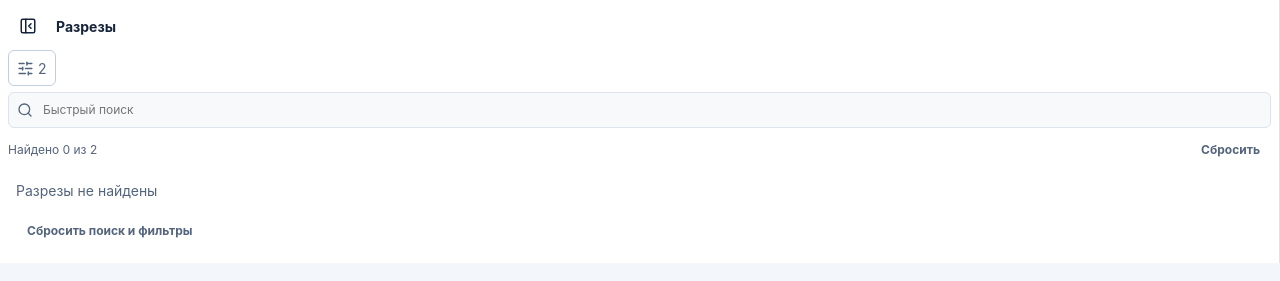
Test: compact section registry › resets block filters from an empty result
Expected: the text "Разрезы не найдены" is shown, 16,182 -> 157,199
Step 1. Click the button "Сбросить поиск и фильтры" → coordinates (110, 231), box 16,215 -> 204,247
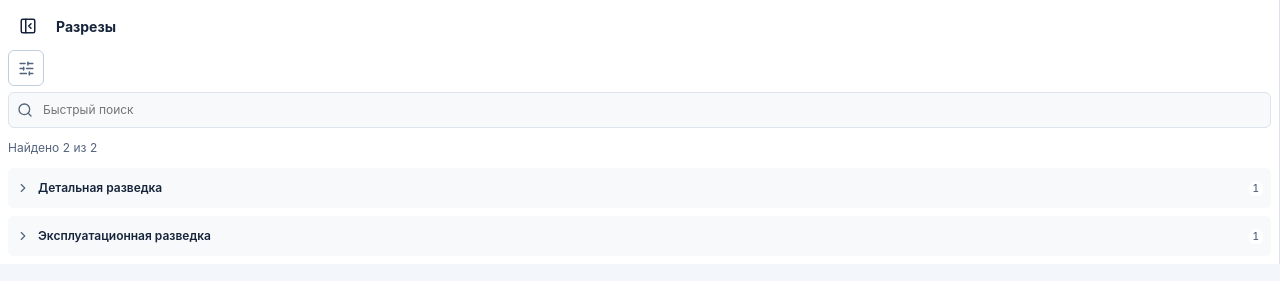
Now the text "Разрезы не найдены" is gone
